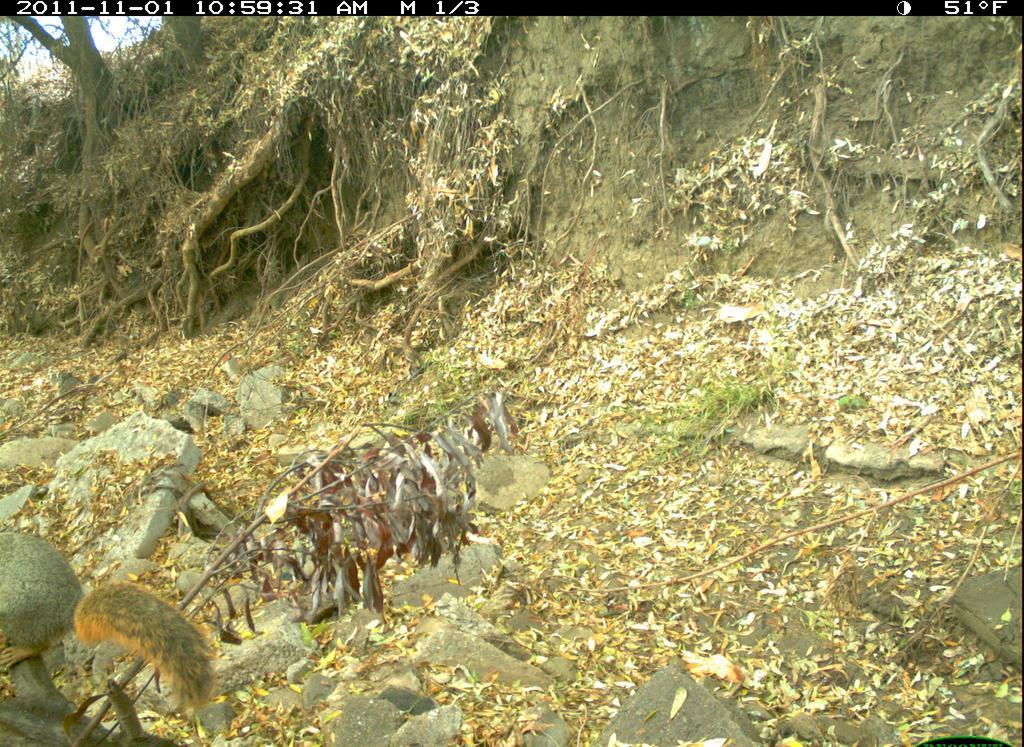squirrel: (1, 516, 228, 718)
